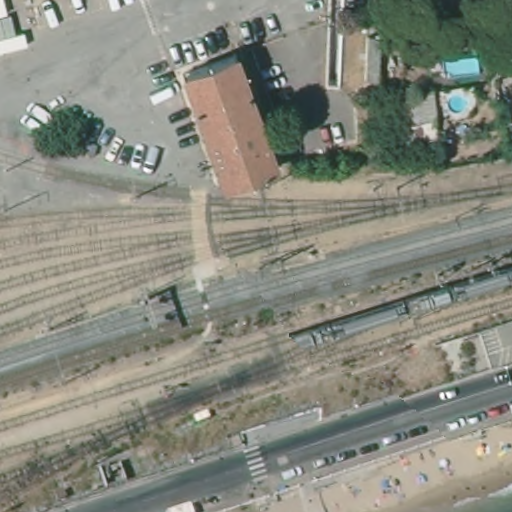pool: (439, 55, 484, 80), (444, 96, 476, 118)
